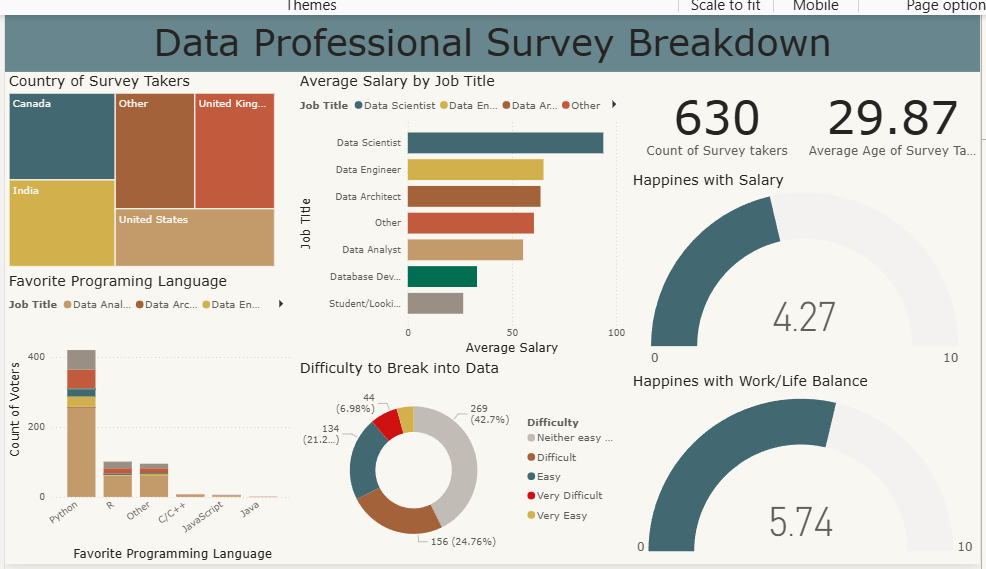

The page's visual inventory and layout, read from the dashboard file:
{"tool":"powerbi","page":{"name":"Page 1","canvas":[1280,720],"ordinal":0},"visuals":[{"type":"textbox","box":[0,0,1279.3,74.9],"z":0},{"type":"card","fields":{"Values":["CountNonNull(Data Professional Survey.Unique ID)"]},"box":[818.3,75.6,230.6,130.4],"z":1000},{"type":"card","fields":{"Values":["Avg(Data Professional Survey.Q10 - Current Age)"]},"box":[1048.8,75.6,230.6,130.4],"z":2000},{"type":"barChart","title":"Average Salary by Job Title","fields":{"Category":["Data Professional Survey.Q1 - Which Title Best Fits your Current Role?.1"],"Y":["Avg(Data Professional Survey.Average Salary)"],"Series":["Data Professional Survey.Q1 - Which Title Best Fits your Current Role?.1"]},"box":[381.8,74.8,436.9,375.9],"z":3000},{"type":"columnChart","title":"Favorite Programing Language","fields":{"Category":["Data Professional Survey.Q5 - Favorite Programming Language.1"],"Series":["Data Professional Survey.Q1 - Which Title Best Fits your Current Role?.1"],"Y":["CountNonNull(Data Professional Survey.Unique ID)"]},"box":[0,336.6,381.8,383.8],"z":4000},{"type":"treemap","title":"Country of Survey Takers","fields":{"Group":["Data Professional Survey.Q11 - Which Country do you live in?.1"],"Values":["Count(Data Professional Survey.Q11 - Which Country do you live in?.1)"]},"box":[0,74.8,358.2,259.8],"z":5000},{"type":"gauge","title":"Happines with Work/Life Balance","fields":{"Y":["Avg(Data Professional Survey.Q6 - How Happy are you in your Current Position with the following? (Work/Life Balance))"],"MinValue":["Min(Data Professional Survey.Q6 - How Happy are you in your Current Position with the following? (Work/Life Balance))"],"MaxValue":["Max(Data Professional Survey.Q6 - How Happy are you in your Current Position with the following? (Work/Life Balance))"]},"box":[818.8,198.8,460.6,251.9],"z":6000},{"type":"gauge","title":"Happines with Salary","fields":{"Y":["Avg(Data Professional Survey.Q6 - How Happy are you in your Current Position with the following? (Salary))"],"MinValue":["Min(Data Professional Survey.Q6 - How Happy are you in your Current Position with the following? (Salary))"],"MaxValue":["Max(Data Professional Survey.Q6 - How Happy are you in your Current Position with the following? (Salary))"]},"box":[818.8,450.7,460.6,269.6],"z":7000},{"type":"donutChart","title":"Difficulty to Break into Data","fields":{"Category":["Data Professional Survey.Q7 - How difficult was it for you to break into Data?"],"Y":["CountNonNull(Data Professional Survey.Q7 - How difficult was it for you to break into Data?)"]},"box":[381.8,450.7,436.9,269.6],"z":8000}]}

Visuals, with their boxes on the page's 1280x720 design canvas (x1, y1, x2, y2). These are canvas units, not pixel positions in the 986x569 screenshot, which may show the page scaled, cropped or inside an application window:
textbox: (left=0, top=0, right=1279, bottom=75)
card - CountNonNull(Data Professional Survey.Unique ID): (left=818, top=76, right=1049, bottom=206)
card - Avg(Data Professional Survey.Q10 - Current Age): (left=1049, top=76, right=1279, bottom=206)
"Average Salary by Job Title" barChart: (left=382, top=75, right=819, bottom=451)
"Favorite Programing Language" columnChart: (left=0, top=337, right=382, bottom=720)
"Country of Survey Takers" treemap: (left=0, top=75, right=358, bottom=335)
"Happines with Work/Life Balance" gauge: (left=819, top=199, right=1279, bottom=451)
"Happines with Salary" gauge: (left=819, top=451, right=1279, bottom=720)
"Difficulty to Break into Data" donutChart: (left=382, top=451, right=819, bottom=720)
